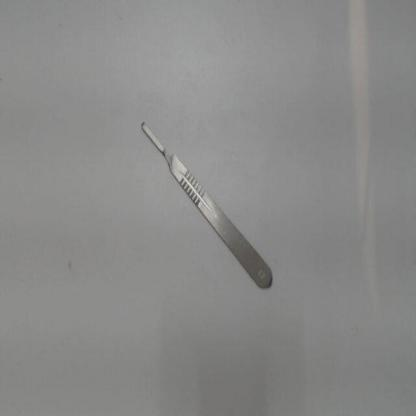No.4 BP Handle: (136, 115, 276, 293)
